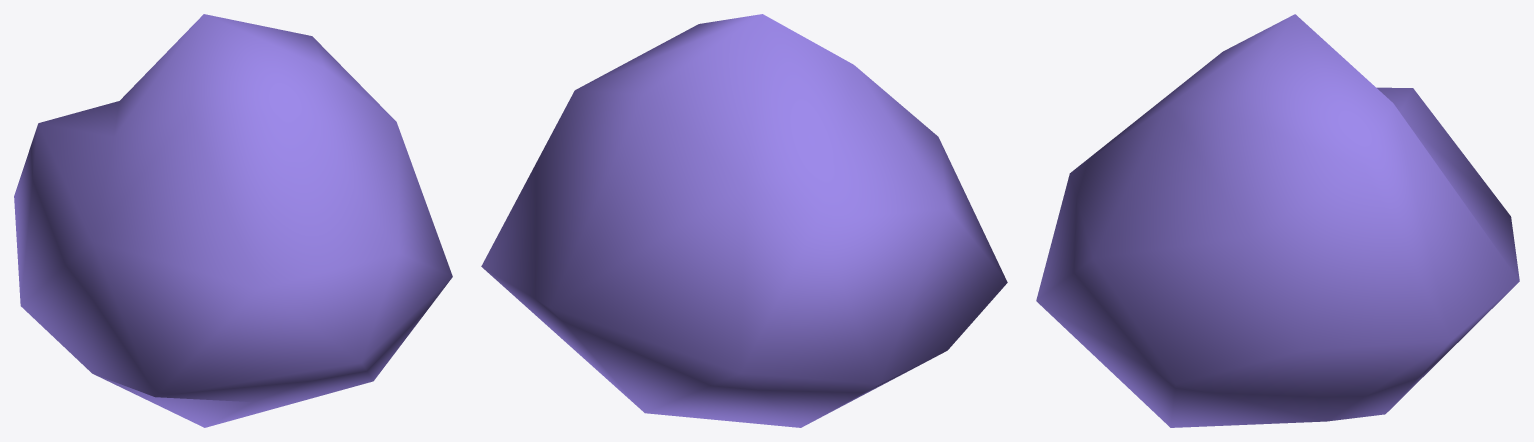
File: manure.glb
3 renders of one model, left to right at view 1: azimuth 30°, elevation 25°; view 2: azimuth 150°, elevation 25°; view 3: azimuth 270°, elevation 25°, orthographic. The views are drawn at different scales.
Visible parts, largest first — view 1: Icosphere; view 2: Icosphere; view 3: Icosphere.
Part boxes in pixels (bbox=[...]): Icosphere: bbox=[14, 14, 452, 427]; Icosphere: bbox=[481, 14, 1007, 427]; Icosphere: bbox=[1036, 14, 1519, 427].
Size of the model in its own units: 0.2602 by 0.2858 by 0.3076.
